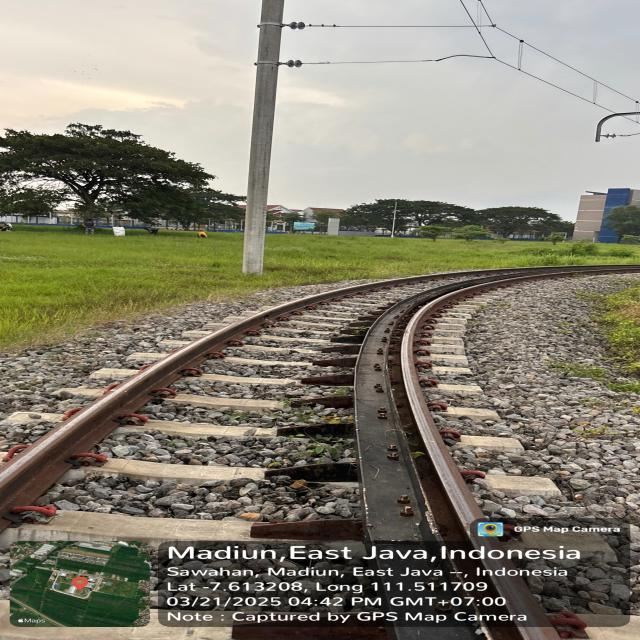rail-detection: (111, 265, 640, 640), (0, 265, 640, 515), (0, 280, 400, 516), (400, 300, 472, 525)
